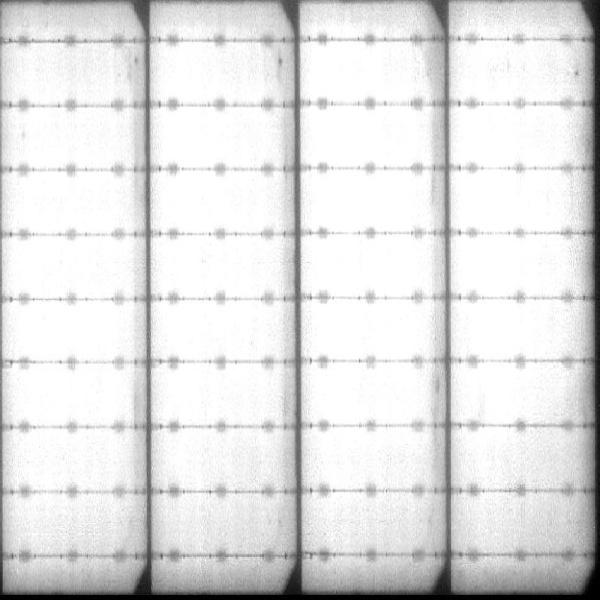hot_spot: (457, 107, 564, 163), (11, 374, 130, 423), (317, 303, 429, 355), (466, 369, 572, 423), (459, 306, 573, 356), (161, 242, 274, 292), (319, 368, 429, 419), (318, 176, 426, 227), (159, 372, 271, 421), (164, 176, 270, 227), (313, 241, 421, 291), (9, 307, 131, 351), (161, 116, 270, 165), (162, 306, 272, 354), (459, 242, 568, 290), (18, 244, 128, 291), (318, 112, 415, 162), (456, 181, 561, 224), (312, 49, 389, 90)
